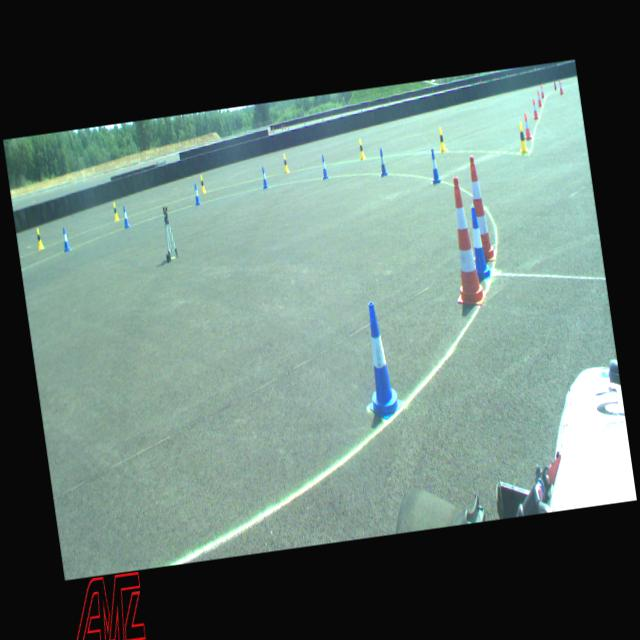blue_cone: (354, 300, 404, 421), (468, 205, 492, 280), (428, 148, 441, 184), (377, 148, 388, 176), (62, 227, 72, 251), (192, 183, 202, 206), (121, 205, 131, 228), (320, 155, 329, 179), (260, 166, 269, 189)
large_orange_cone: (441, 175, 488, 308), (467, 156, 498, 262)
orange_cone: (522, 112, 532, 140), (530, 98, 538, 120), (536, 90, 543, 107), (558, 80, 564, 94), (540, 84, 545, 98)
unknown_cone: (554, 80, 556, 90)
yellow_cone: (516, 122, 529, 154), (437, 128, 447, 152), (36, 227, 46, 250), (357, 138, 366, 160), (112, 202, 120, 222), (282, 154, 290, 174), (200, 174, 207, 193)
